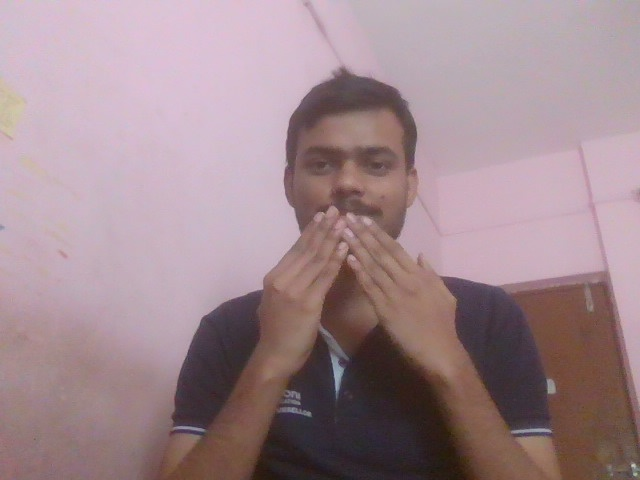ThankYou: (250, 183, 555, 391)
